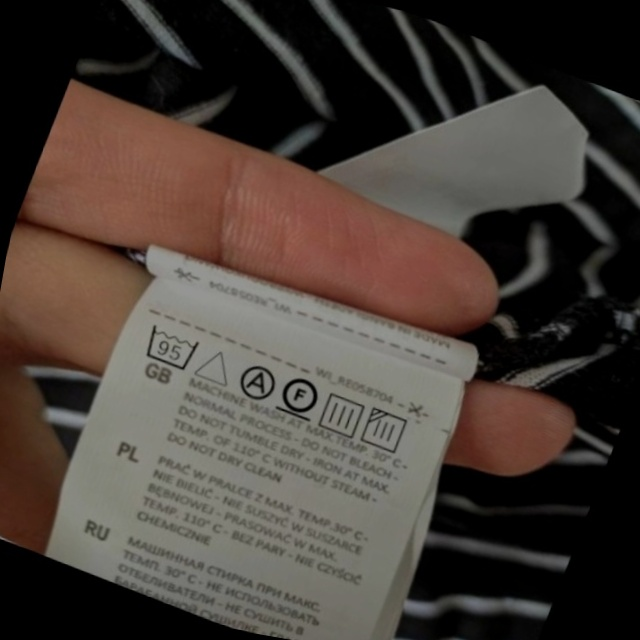95C: (137, 319, 206, 376)
bleach: (192, 339, 240, 392)
drip_dry: (313, 386, 371, 443)
drip_dry_in_shade: (357, 402, 416, 461)
dry_clean: (231, 357, 282, 406)
dry_clean_petrol_only: (273, 367, 328, 425)
